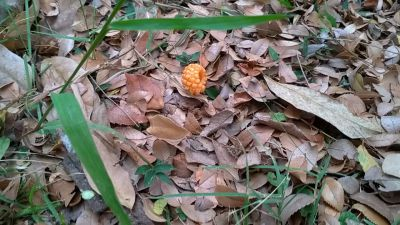eggs: (180, 59, 208, 96)
